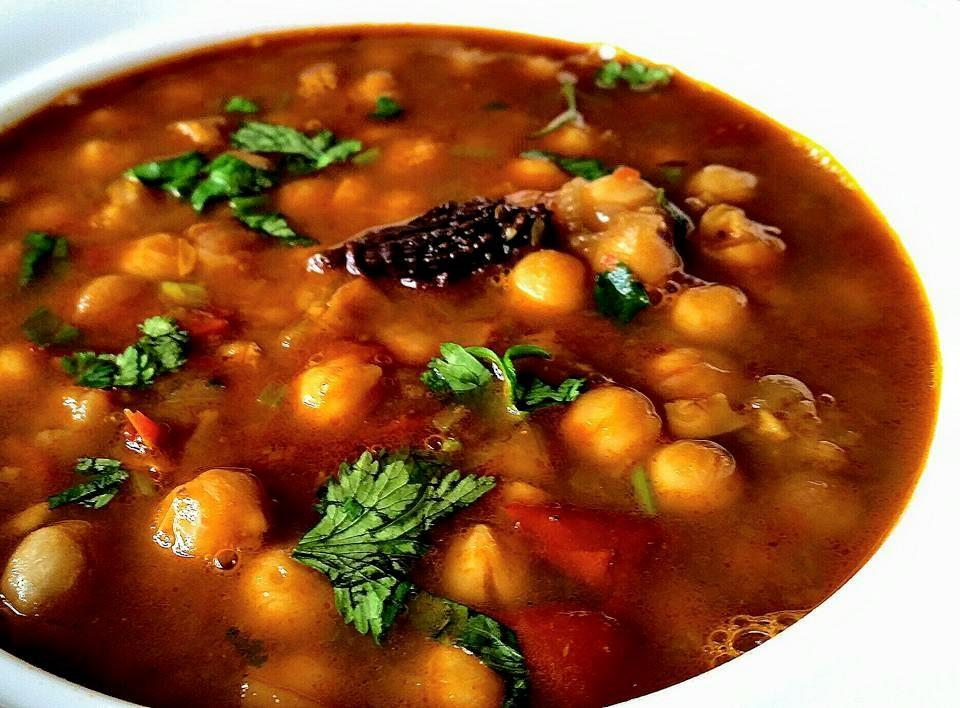Chole: (0, 27, 936, 708)
